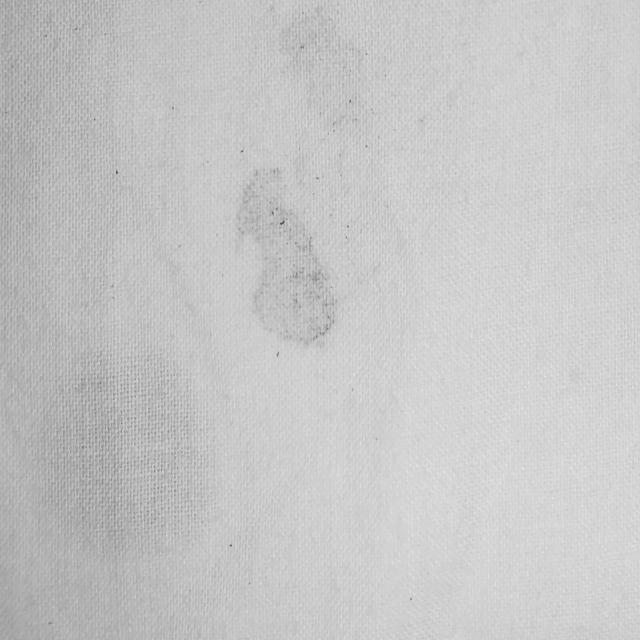stain: (218, 142, 355, 364)
